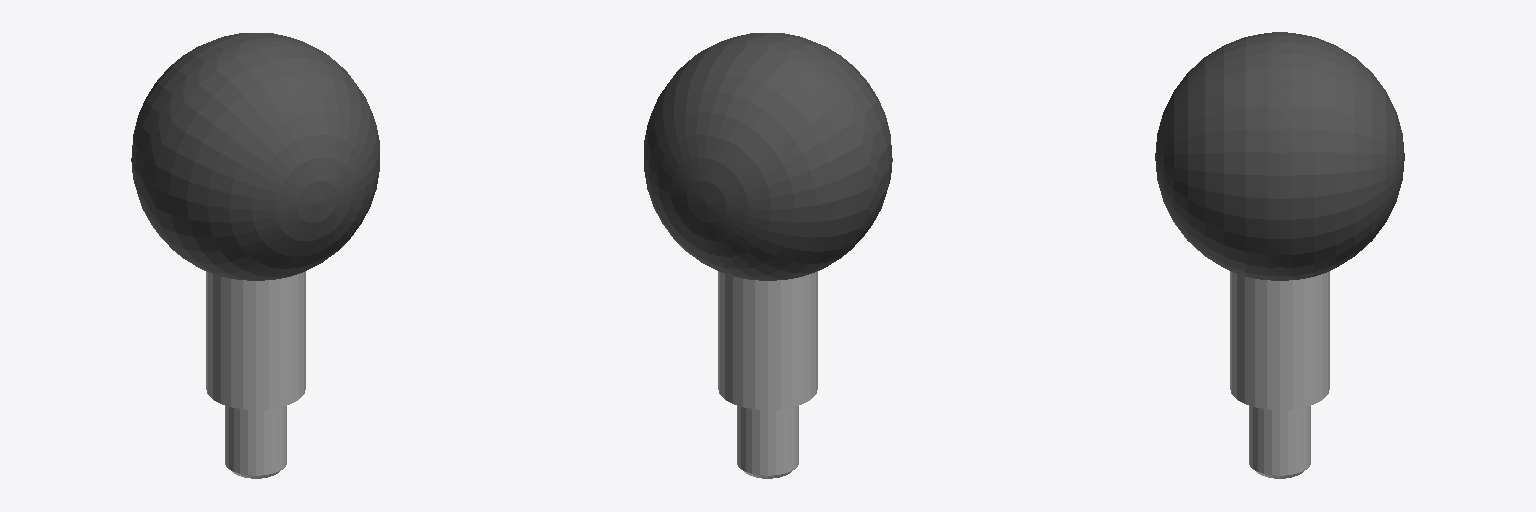
The model's file is ganter_gn_319_5-40-m10-a.obj.
The picture shows the model from 3 angles: view 1: azimuth 30°, elevation 25°; view 2: azimuth 150°, elevation 25°; view 3: azimuth 270°, elevation 25°; orthographic projection.
Parts seen in each view (by area): view 1: ganter_gn_319_5-40-m10-a_1; view 2: ganter_gn_319_5-40-m10-a_1; view 3: ganter_gn_319_5-40-m10-a_1.
Boxes of the visible parts, x1=… form: ganter_gn_319_5-40-m10-a_1: x1=131, y1=33, x2=379, y2=478; ganter_gn_319_5-40-m10-a_1: x1=644, y1=33, x2=892, y2=478; ganter_gn_319_5-40-m10-a_1: x1=1155, y1=32, x2=1404, y2=478.
Size of the model in its own units: 39.83 by 75 by 40.